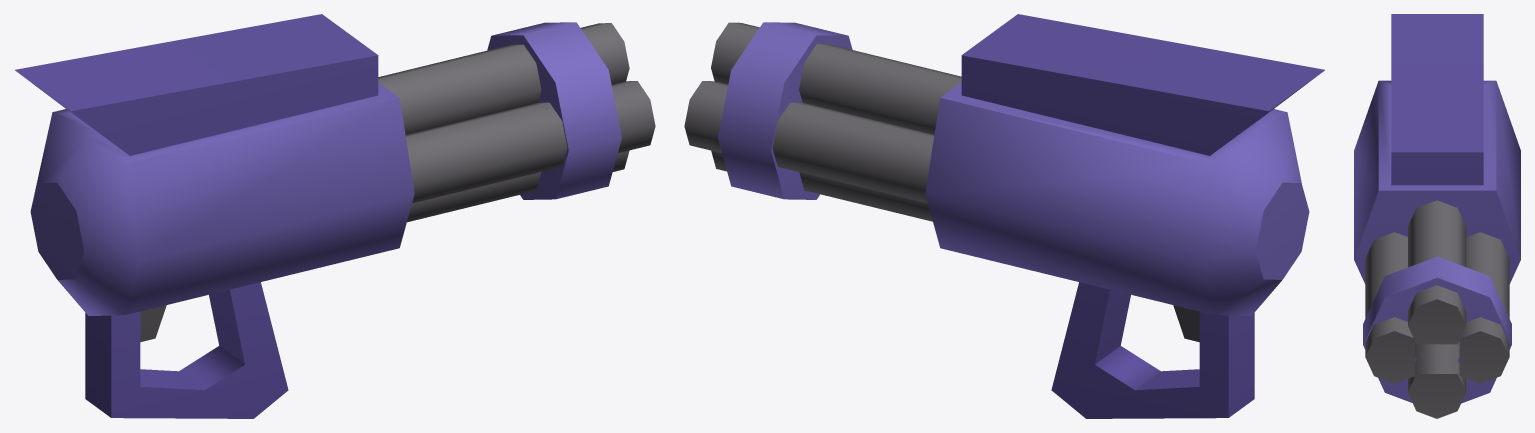
The model's file is Minigun.fbx.
The picture shows the model from 3 angles, left to right: view 1: azimuth 30°, elevation 25°; view 2: azimuth 150°, elevation 25°; view 3: azimuth 270°, elevation 25°; orthographic projection. The views are drawn at different scales.
Visible parts, largest first — view 1: Weapon4; view 2: Weapon4; view 3: Weapon4.
Part boxes in pixels (x1,y1,x2,y2): Weapon4: (15,14,655,418); Weapon4: (684,14,1324,418); Weapon4: (1354,14,1520,418).
Size of the model in its own units: 6.35 by 3.92 by 1.97.
